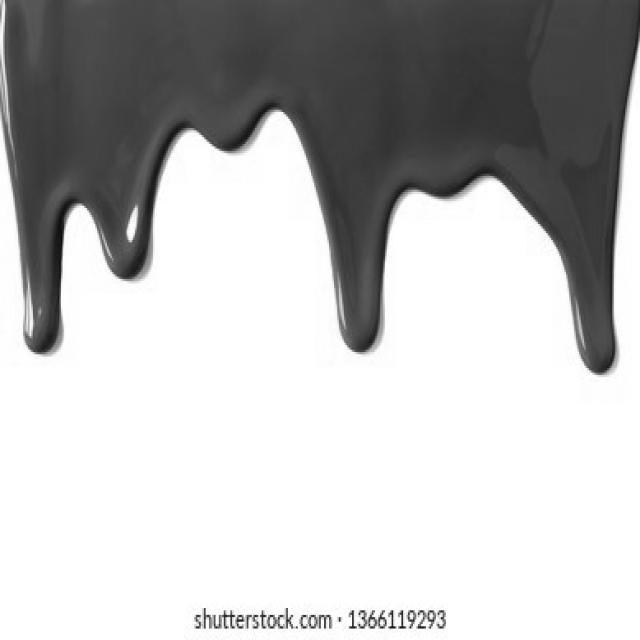paint drips: (294, 68, 632, 396), (189, 26, 396, 379), (12, 64, 157, 354)
